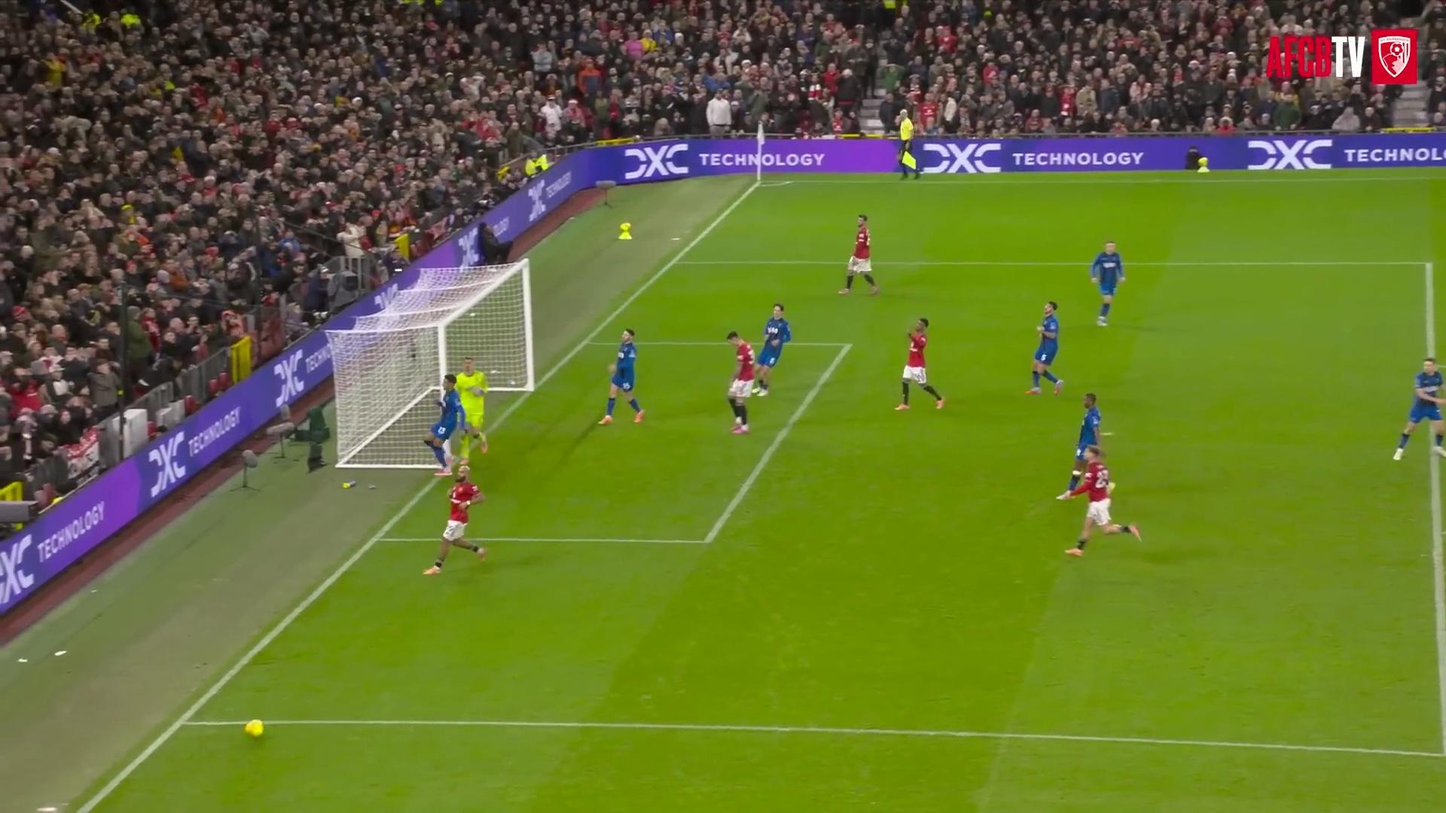football: (240, 712, 273, 750)
player: (1065, 446, 1140, 556), (424, 463, 486, 574), (1394, 358, 1445, 460), (1058, 393, 1100, 499), (895, 318, 943, 410), (599, 329, 643, 425), (424, 374, 465, 476), (752, 303, 791, 396), (1027, 301, 1063, 394), (456, 358, 487, 459), (840, 215, 878, 294), (1090, 241, 1124, 326), (727, 331, 754, 434)
referee: (898, 109, 920, 178)
